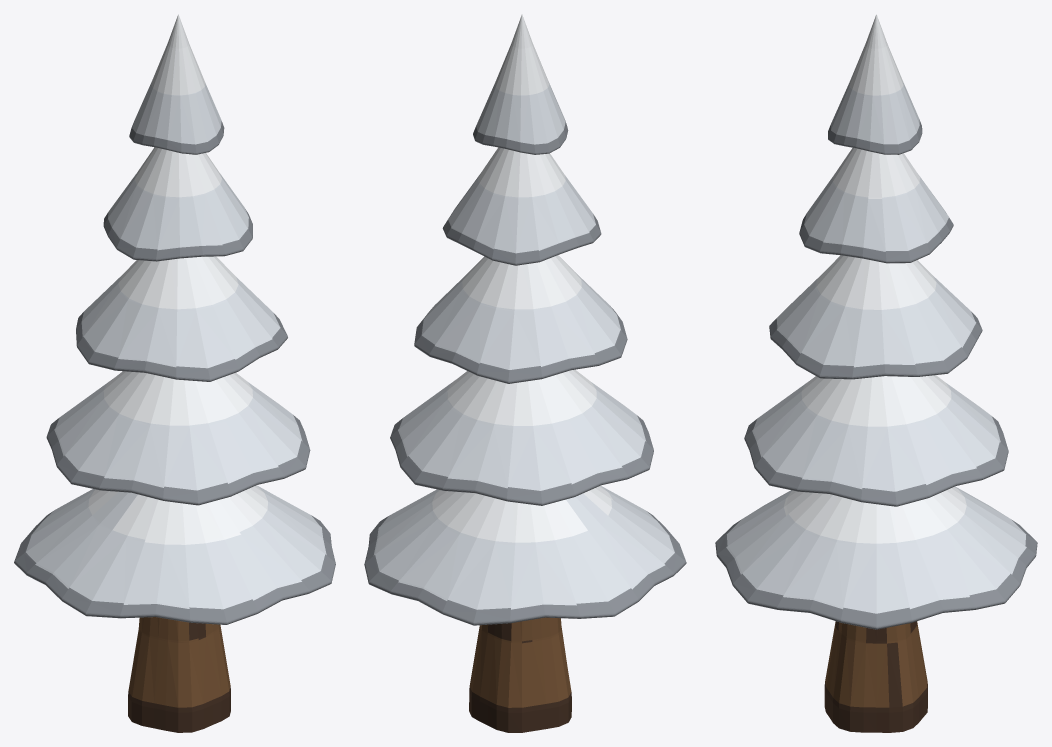
File: WindpineTree.obj
3 renders of one model, left to right at view 1: azimuth 30°, elevation 25°; view 2: azimuth 150°, elevation 25°; view 3: azimuth 270°, elevation 25°, orthographic.
Size of the model in its own units: 5.79 by 13.9 by 5.81.
